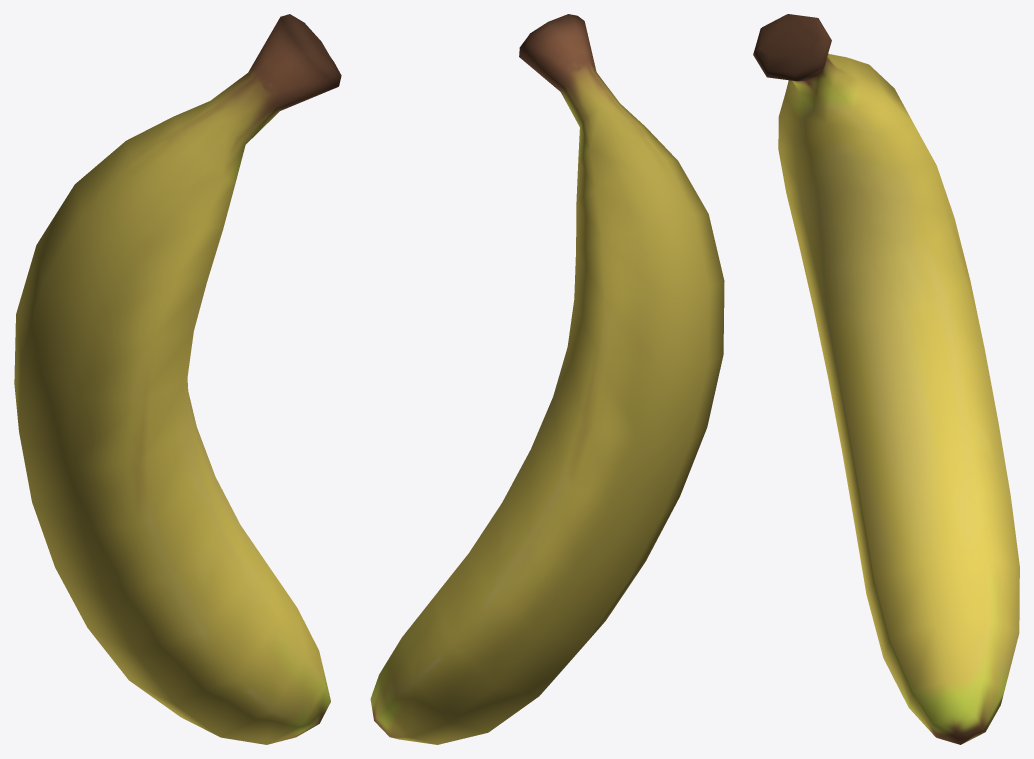
The model's file is banana.glb.
The picture shows the model from 3 angles, left to right: view 1: azimuth 30°, elevation 25°; view 2: azimuth 150°, elevation 25°; view 3: azimuth 270°, elevation 25°; orthographic projection. The views are drawn at different scales.
Visible parts, largest first — view 1: Banana_Banana_mat_0; view 2: Banana_Banana_mat_0; view 3: Banana_Banana_mat_0.
Boxes of the visible parts, box(x1,y1,x2,y2) form: Banana_Banana_mat_0: box(14, 14, 341, 744); Banana_Banana_mat_0: box(370, 14, 724, 744); Banana_Banana_mat_0: box(753, 14, 1019, 744).
Size of the model in its own units: 0.0621 by 0.1365 by 0.048.
Materials: 1 (1 with a texture image).
